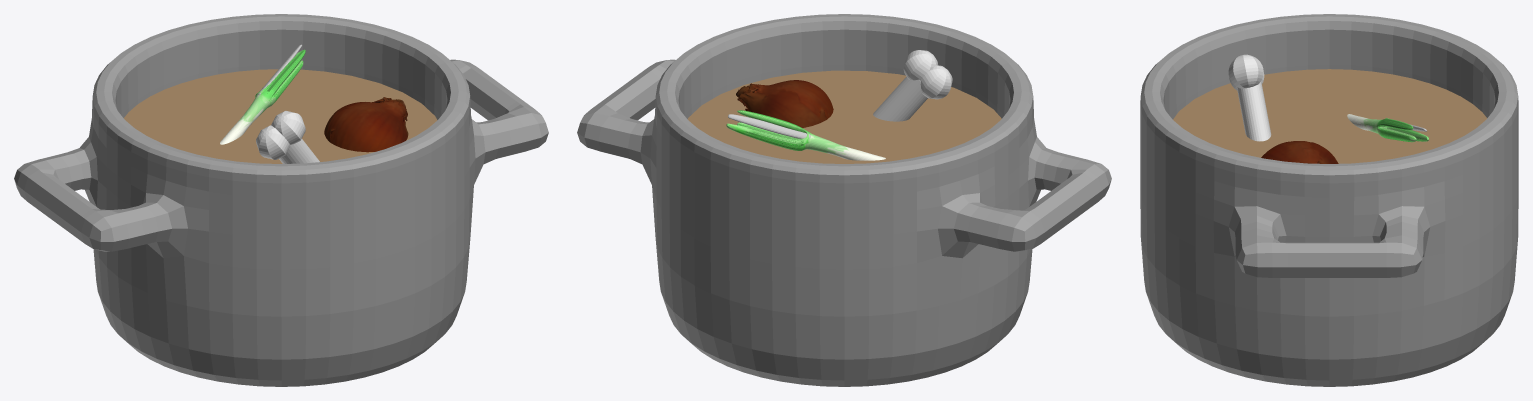
The model's file is ramen_soup.fbx.
3 renders of one model, left to right at view 1: azimuth 30°, elevation 25°; view 2: azimuth 150°, elevation 25°; view 3: azimuth 270°, elevation 25°, orthographic.
Visible parts, largest first — view 1: 원형.044, 실린더.003, 양파, 구체.015, 파; view 2: 원형.044, 실린더.003, 양파, 구체.015, 파; view 3: 원형.044, 실린더.003, 구체.015, 양파, 파.
Part boxes in pixels (x1,y1,x2,y2): 원형.044: [14, 14, 548, 386]; 실린더.003: [124, 69, 437, 163]; 양파: [324, 97, 408, 152]; 구체.015: [256, 111, 319, 163]; 파: [220, 44, 305, 144]; 원형.044: [577, 14, 1111, 386]; 실린더.003: [687, 70, 1001, 163]; 양파: [736, 80, 833, 127]; 구체.015: [873, 50, 952, 121]; 파: [726, 110, 885, 160]; 원형.044: [1140, 14, 1518, 386]; 실린더.003: [1173, 69, 1486, 163]; 구체.015: [1228, 54, 1271, 141]; 양파: [1261, 141, 1338, 163]; 파: [1347, 114, 1428, 142].
Bounding box in the file's own units: 276 × 140 × 198.
